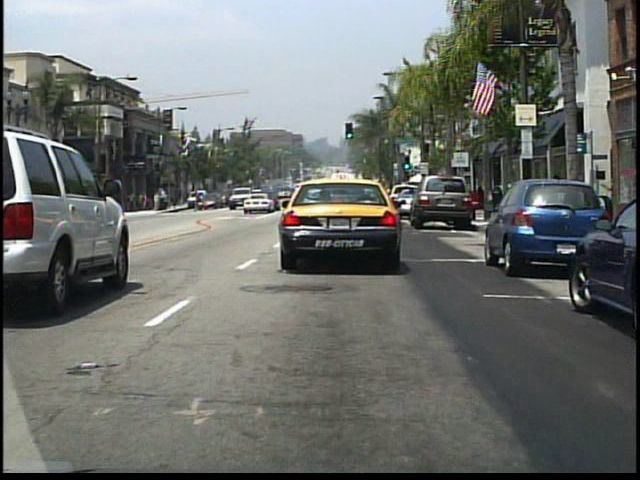person: (193, 188, 203, 214)
